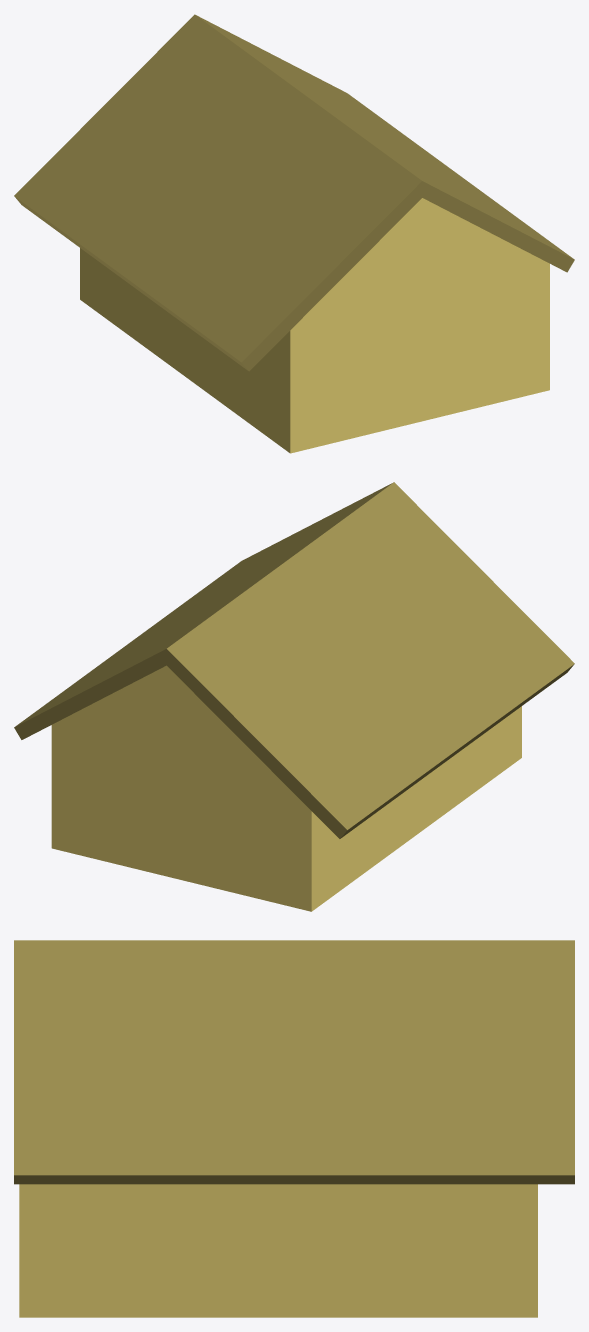
Rendered from result.glb.
The picture shows the model from 3 angles, top to bottom: view 1: azimuth 30°, elevation 25°; view 2: azimuth 150°, elevation 25°; view 3: azimuth 270°, elevation 25°; orthographic projection. The views are drawn at different scales.
Visible parts, largest first — view 1: c77a8a1c-ceac-4826-b4a8-6007eed69579__undefined (×2), 7eb4e1c2-fa90-40f6-a5ef-303e8aeff222__undefined; view 2: c77a8a1c-ceac-4826-b4a8-6007eed69579__undefined (×2), 7eb4e1c2-fa90-40f6-a5ef-303e8aeff222__undefined; view 3: c77a8a1c-ceac-4826-b4a8-6007eed69579__undefined, 7eb4e1c2-fa90-40f6-a5ef-303e8aeff222__undefined.
Part boxes in pixels (x1,y1,x2,y2): c77a8a1c-ceac-4826-b4a8-6007eed69579__undefined (×2): (14, 14, 574, 371); 7eb4e1c2-fa90-40f6-a5ef-303e8aeff222__undefined: (80, 198, 549, 453); c77a8a1c-ceac-4826-b4a8-6007eed69579__undefined (×2): (14, 482, 574, 838); 7eb4e1c2-fa90-40f6-a5ef-303e8aeff222__undefined: (51, 665, 521, 911); c77a8a1c-ceac-4826-b4a8-6007eed69579__undefined: (14, 940, 574, 1184); 7eb4e1c2-fa90-40f6-a5ef-303e8aeff222__undefined: (19, 1184, 537, 1317).
Size of the model in its own units: 640 by 445 by 757.
